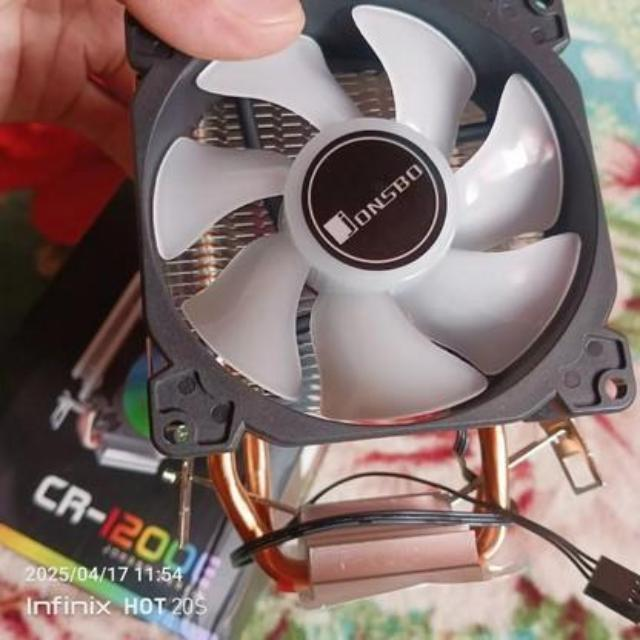CPU_Fan: (128, 0, 626, 605)
